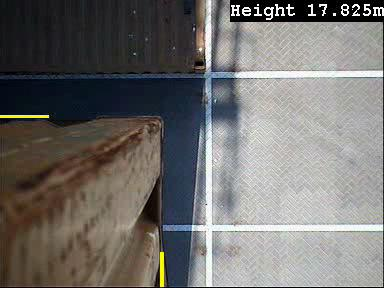groundmarker_2: (177, 211, 238, 246), (201, 160, 239, 210)
